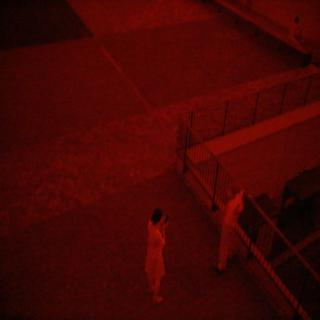person: (136, 205, 176, 310), (210, 186, 253, 277)
